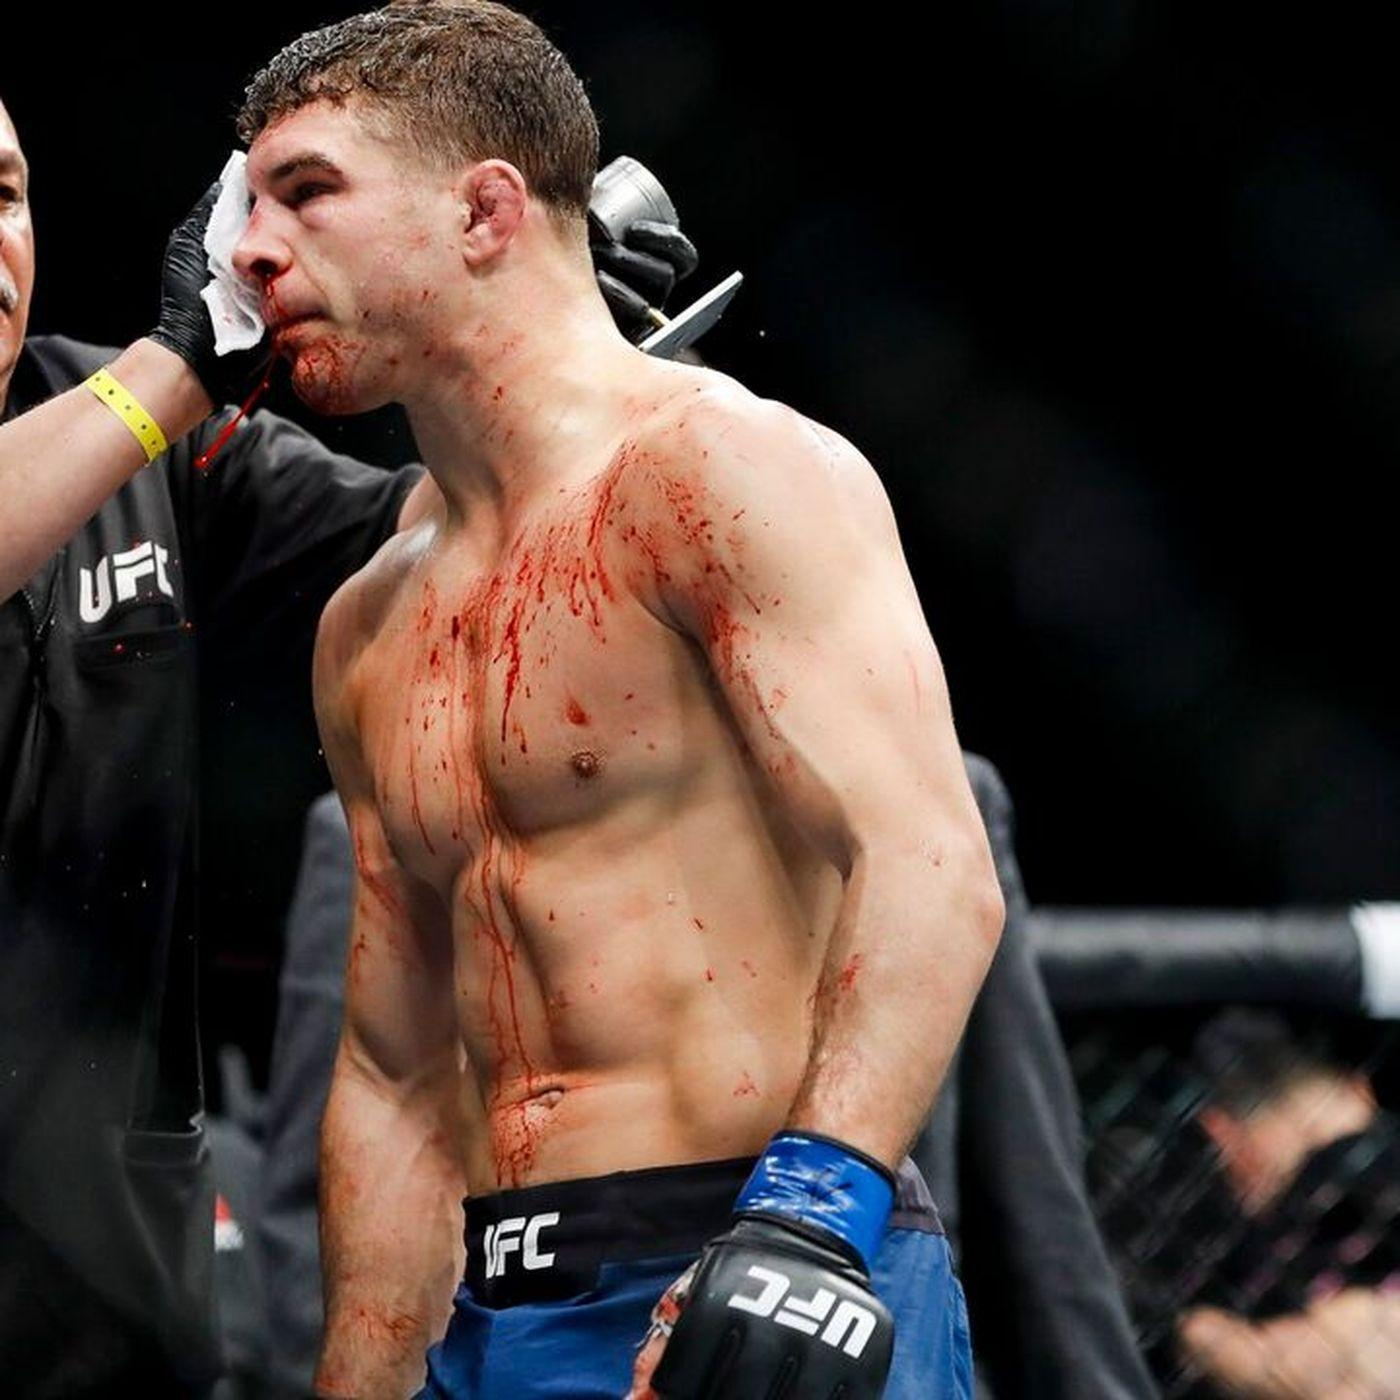Fire: (245, 237, 900, 1400), (192, 354, 276, 472)
